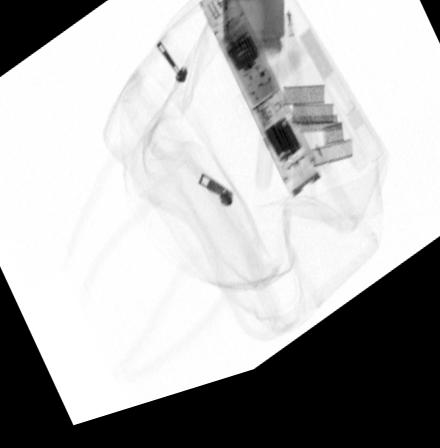Baton: (198, 0, 322, 218)
